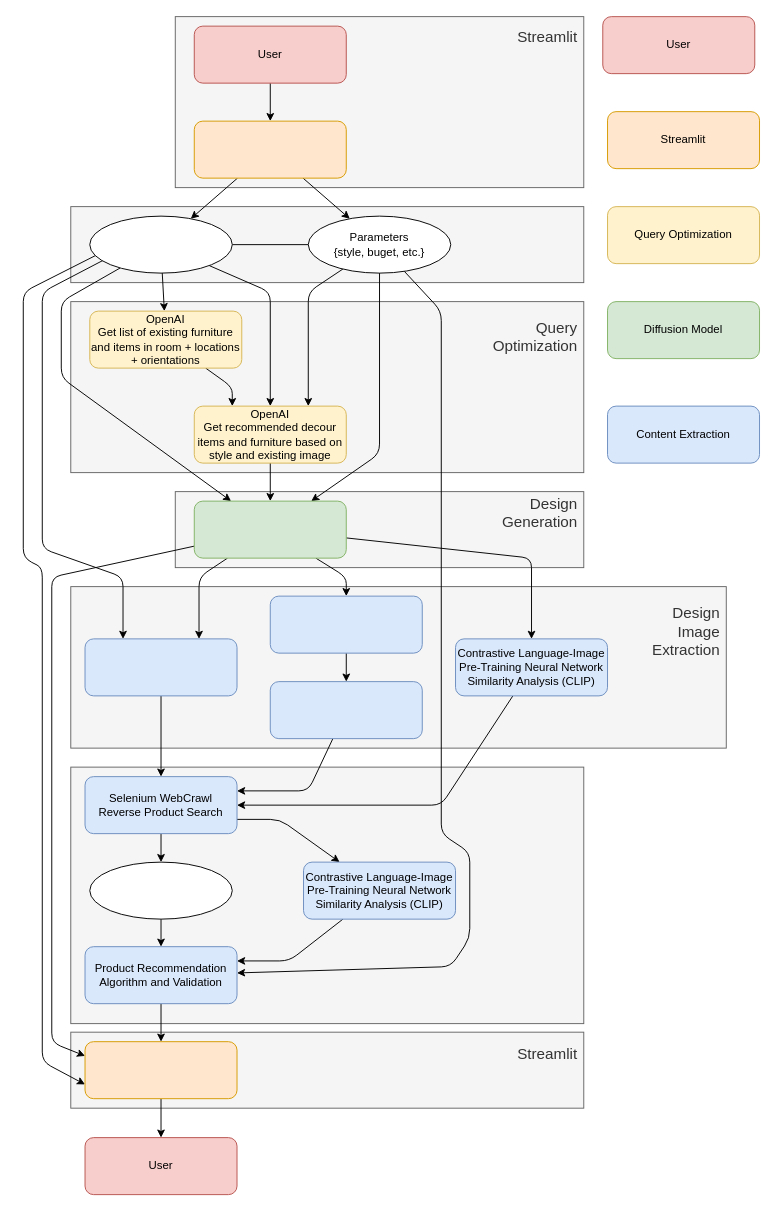
Some shapes in this 776 by 1211 pixel diagram are drawn without their labels. The shapes that lost their labels are listed below. From the top down, each one's box as (x1, y1, x2, y2) in pixels, then its label:
(193, 120, 346, 178): Streamlit UI
(89, 215, 232, 273): Base Room Image
(70, 206, 584, 283): User Inputs
(193, 500, 346, 558): StableDesign Model Create our new room design
(269, 595, 422, 653): v7labs YOLO Model for Object Bounding and Detection
(84, 638, 237, 696): OpenAI Object diff detection -- get a list of new added items
(269, 681, 422, 739): META Segment Anything Model Item image cropping to label pairing
(89, 861, 232, 919): Filtered Data {items, images, prices, urls}
(70, 766, 584, 1024): Potential Product Search and Selection
(84, 1041, 237, 1099): Streamlit UI (Output)
